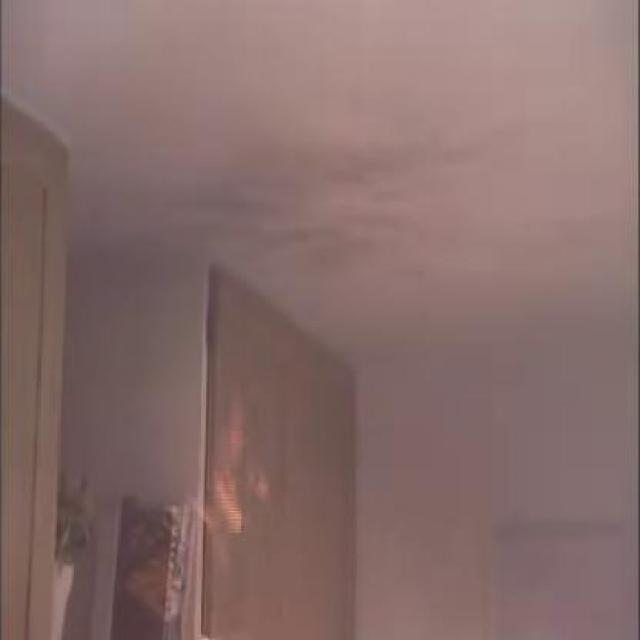fire: (189, 414, 282, 548)
